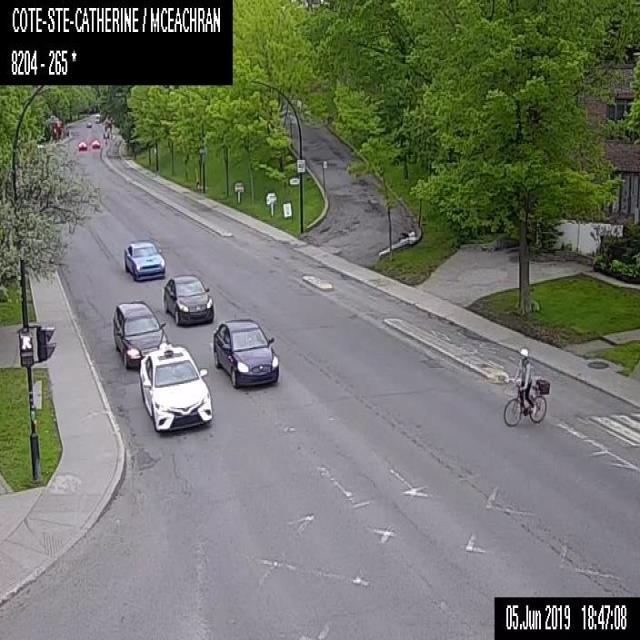cyclist: (503, 346, 549, 426)
vehicle: (139, 341, 212, 433), (211, 317, 279, 387), (112, 299, 168, 368), (161, 274, 213, 326), (123, 240, 165, 280), (77, 140, 86, 149), (91, 139, 99, 148), (86, 121, 91, 127), (95, 117, 99, 123)
